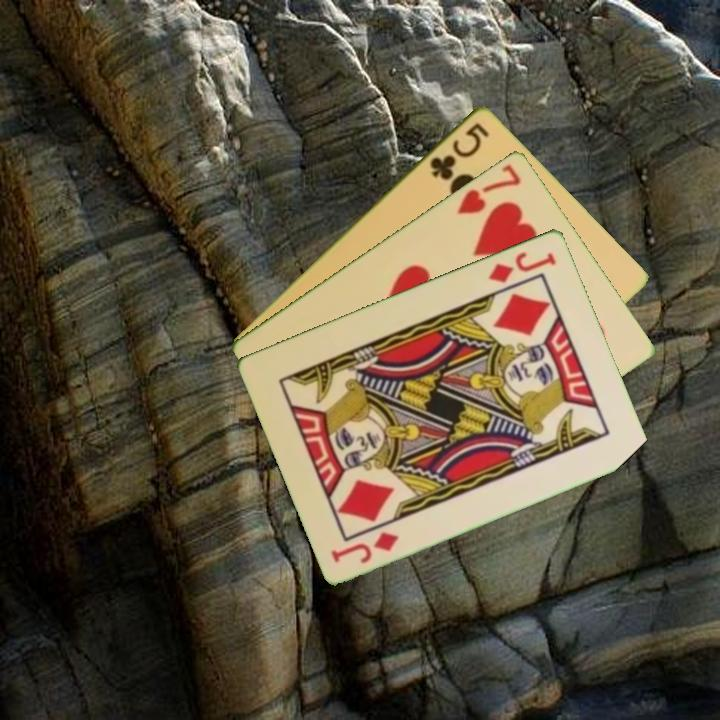5c: (426, 118, 492, 183)
7h: (453, 159, 524, 217)
Jd: (327, 527, 402, 566), (485, 248, 560, 286)
